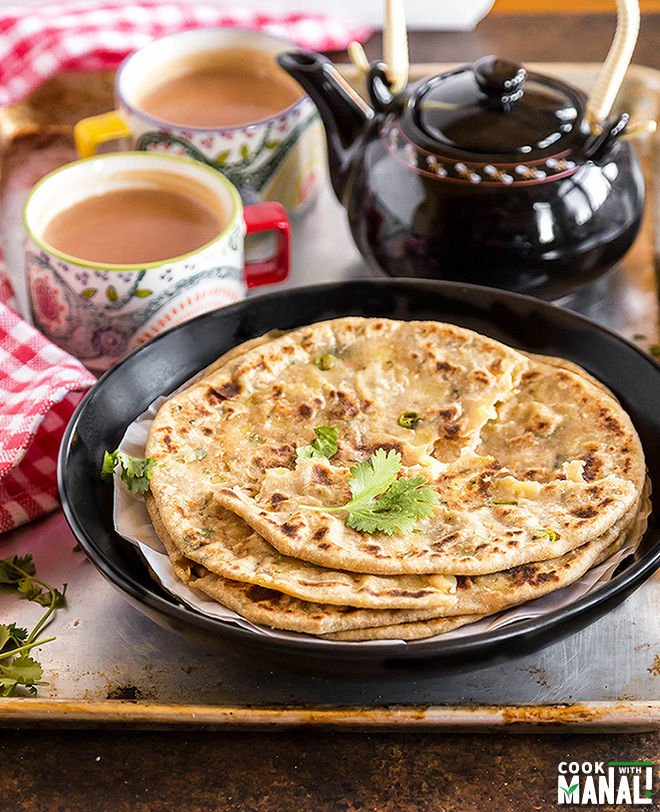aloo_paratha: (142, 319, 655, 640)
